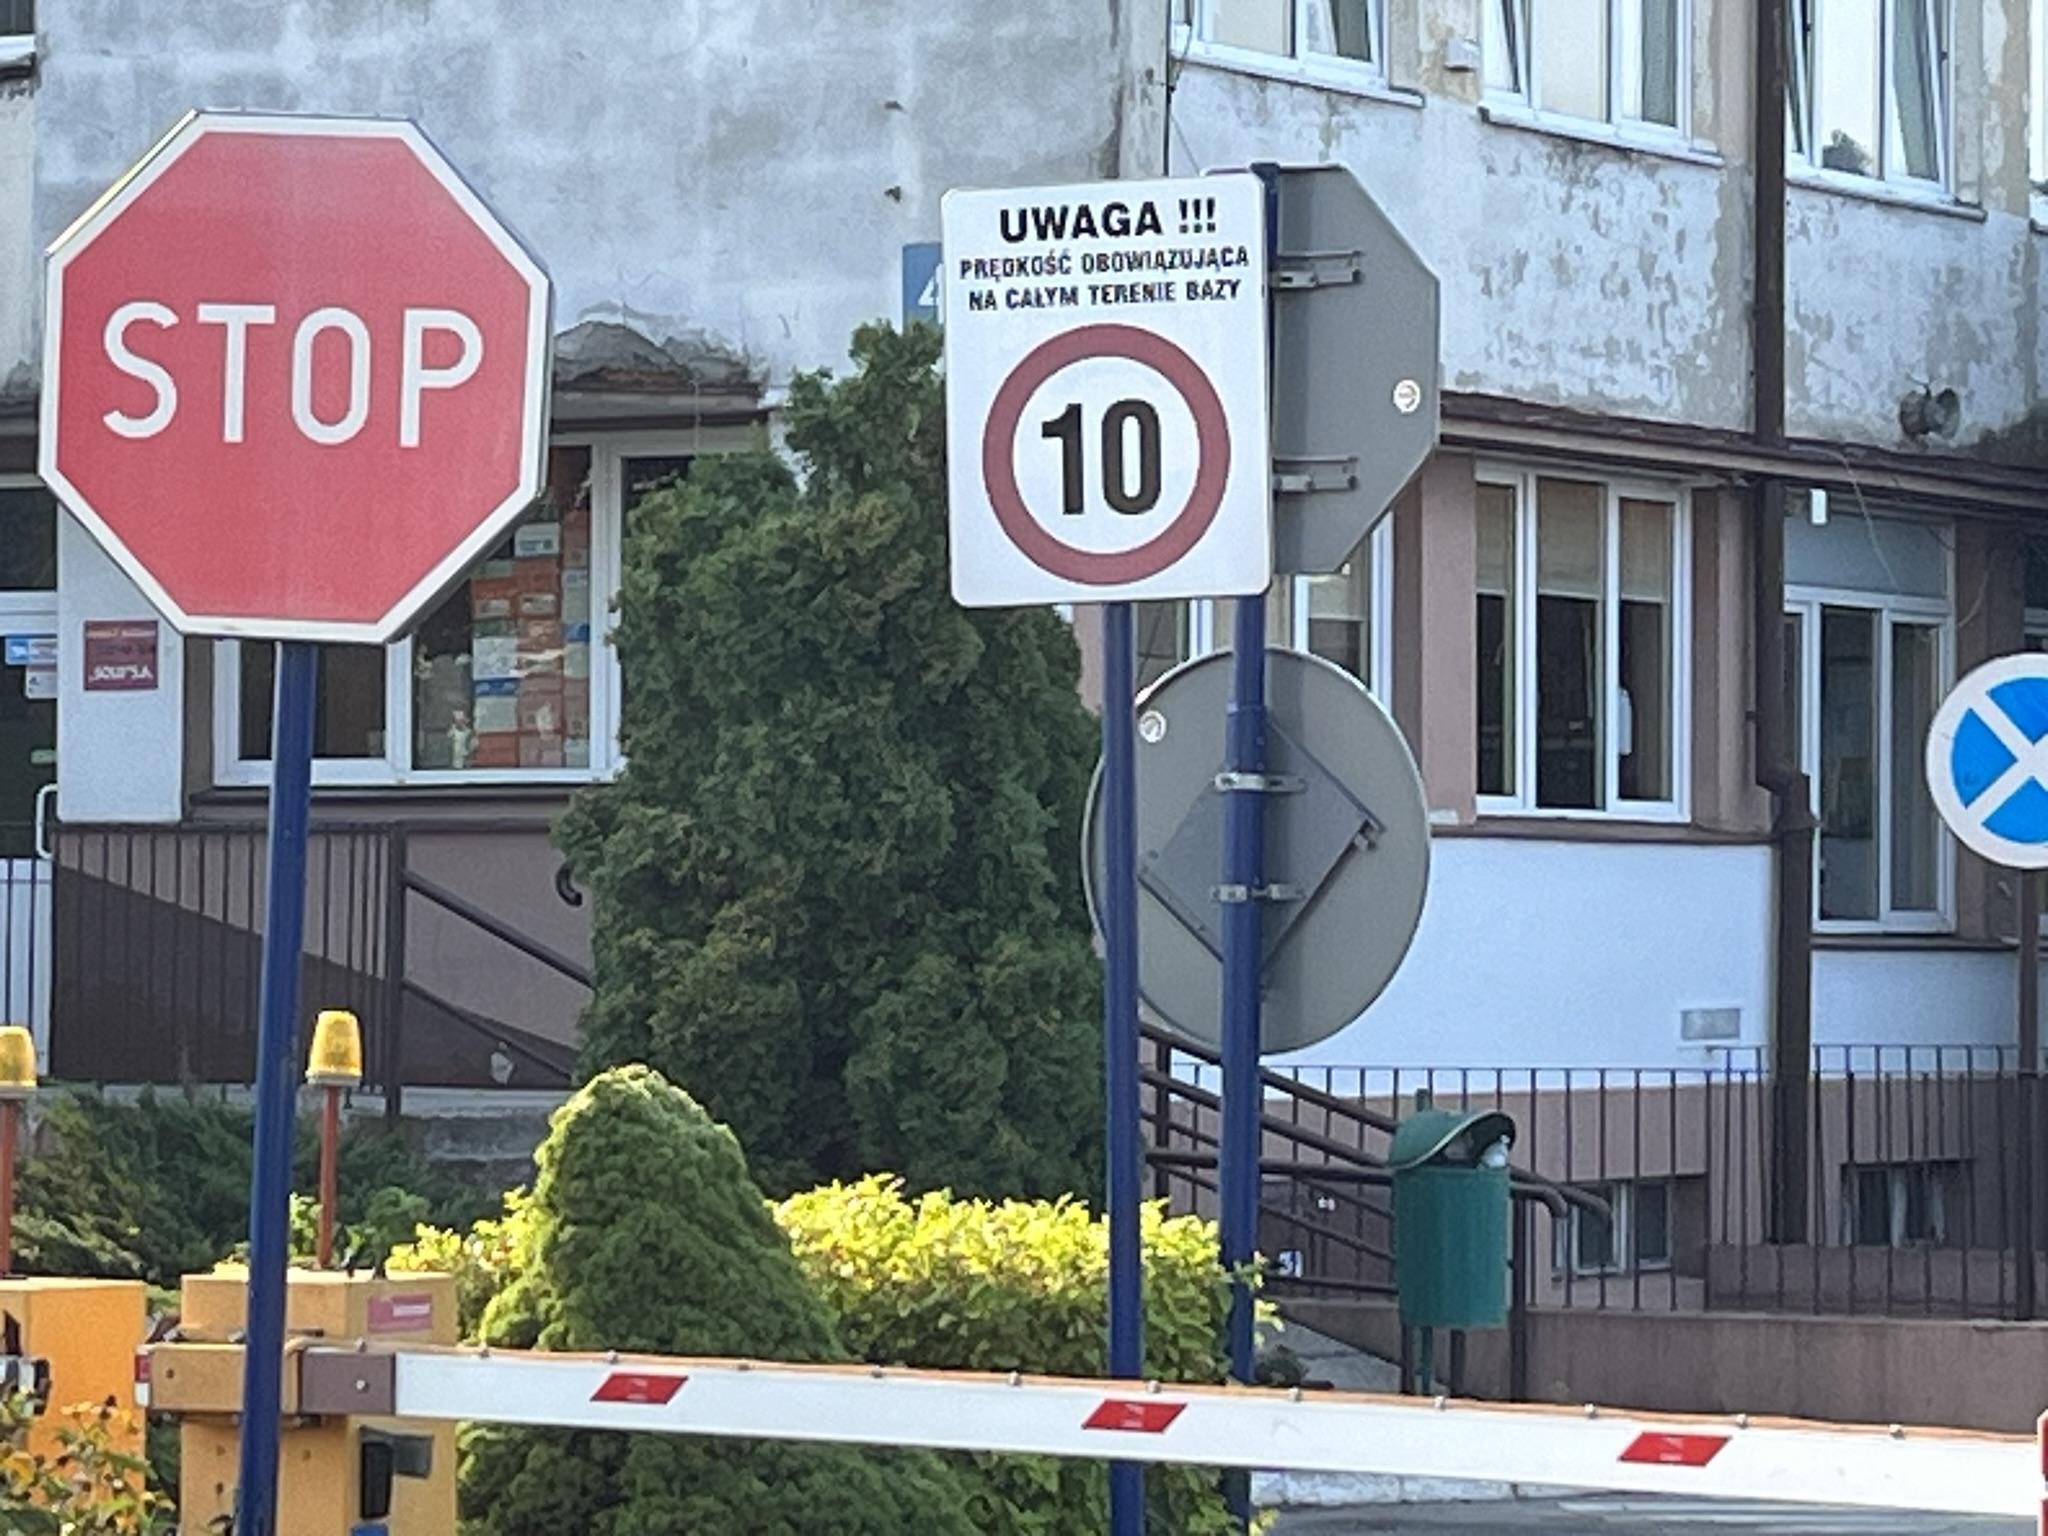prohibitory: (39, 106, 548, 652), (1924, 649, 2048, 870)
